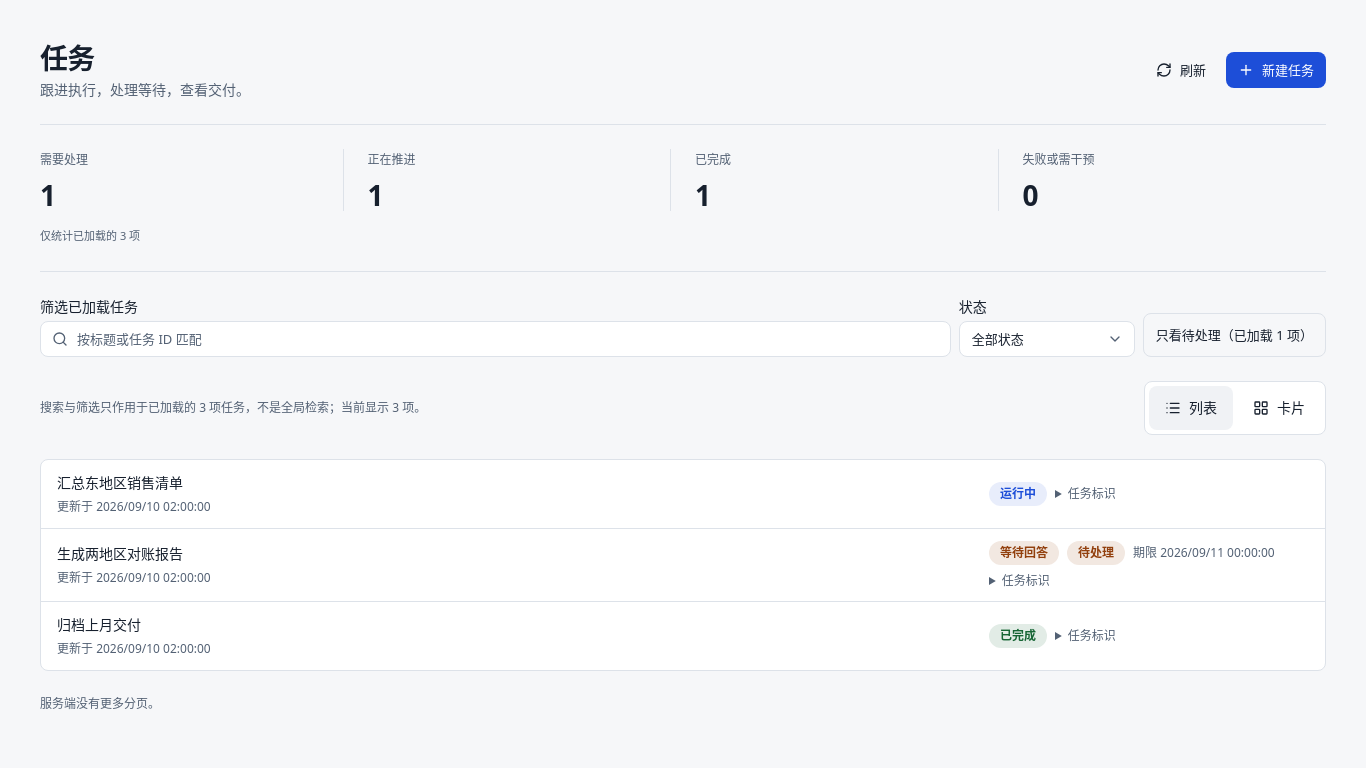
Test: TaskListView › 渲染第一页：状态徽标、更新时间、待处理徽标与局部范围声明
Check: the text "汇总东地区销售清单" is shown, box [57,473,183,492]
Check: the text "生成两地区对账报告" is shown, box [57,544,183,563]
Note: 待处理开关：只筛已加载的 awaiting-*
Step 1. Click the button "只看待处理（已加载 1 项）" → (1234, 335), box [1143,313,1326,357]
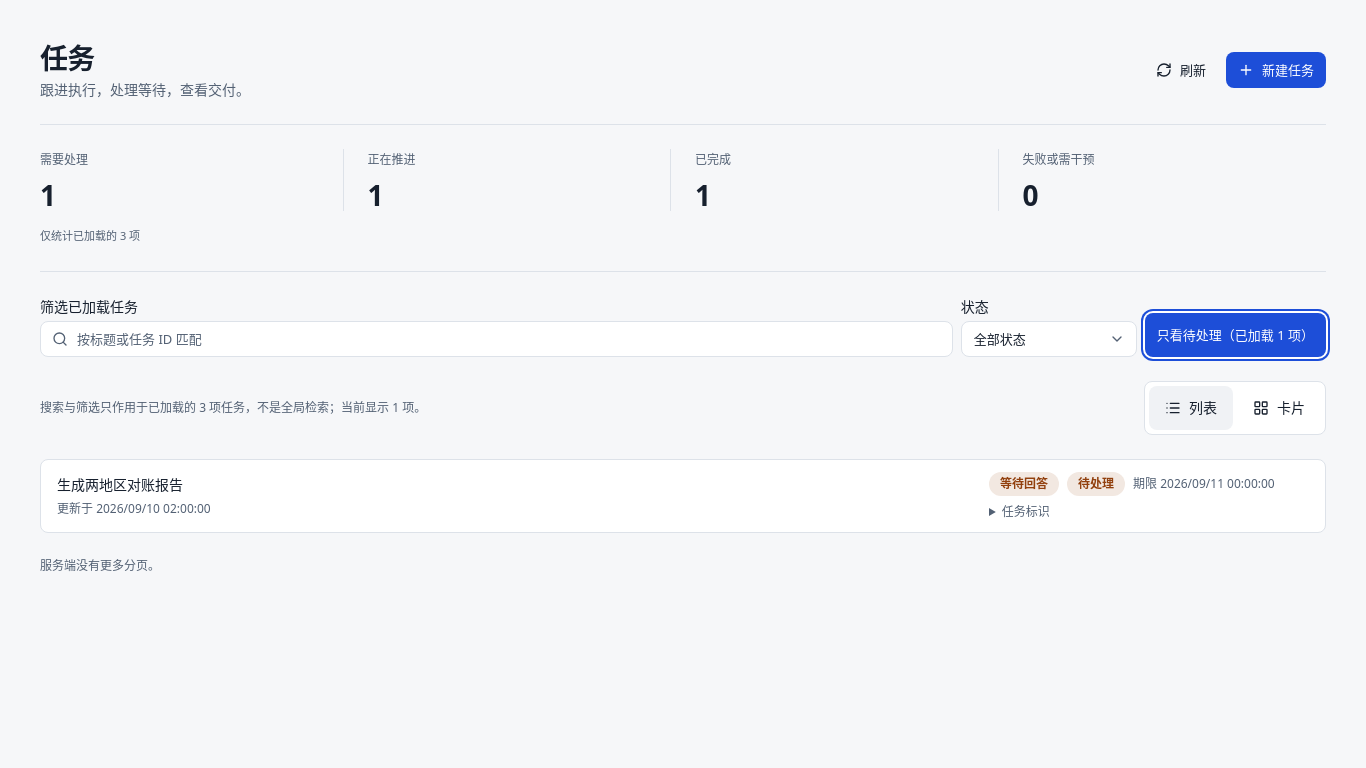
Check: the text "生成两地区对账报告" is shown, box [57,475,183,494]
Check: the link "汇总东地区销售清单" is gone
